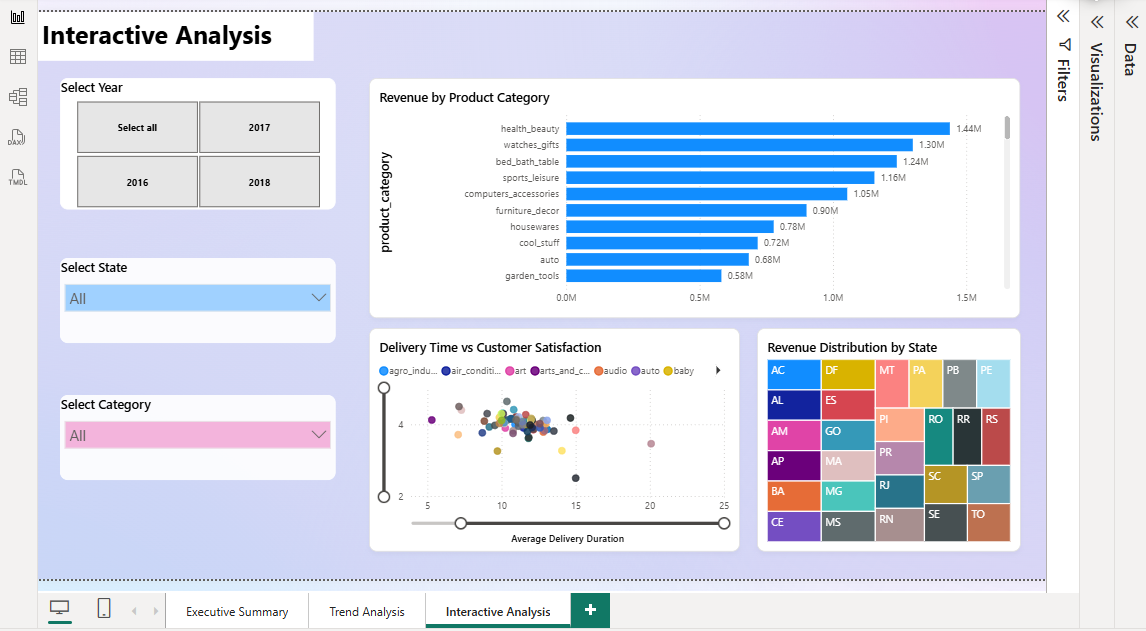

What the dashboard file says about the page in this screenshot:
{"tool":"powerbi","page":{"name":"Interactive Analysis","canvas":[1280,720],"ordinal":2},"visuals":[{"type":"textbox","box":[0,0,349.9,61.7],"z":0},{"type":"slicer","title":"Select Year","fields":{"Values":["DM_Sales_Revenue.year"]},"box":[27.4,83.7,349.9,167.4],"z":1000},{"type":"slicer","title":"Select State","fields":{"Values":["DM_Customer_Experience.customer_state"]},"box":[27.4,312.9,349.9,108.4],"z":2000},{"type":"slicer","title":"Select Category","fields":{"Values":["DM_Sales_Revenue.product_category"]},"box":[27.4,485.8,349.9,108.4],"z":3000},{"type":"clusteredBarChart","title":"Revenue by Product Category","fields":{"Y":["DM_Sales_Revenue.Total Revenue"],"Category":["DM_Sales_Revenue.product_category"]},"box":[419.9,83.7,827.4,304.6],"z":4000},{"type":"scatterChart","title":"Delivery Time vs Customer Satisfaction","fields":{"X":["DM_Customer_Experience.Average Delivery Duration"],"Y":["DM_Customer_Experience.Average Review Score"],"Series":["DM_Customer_Experience.product_category"]},"box":[419.9,400.7,470.7,284],"z":5000},{"type":"treemap","title":"Revenue Distribution by State","fields":{"Group":["DM_Customer_Experience.customer_state"],"Values":["DM_Sales_Revenue.Total Revenue"]},"box":[912.5,400.7,334.8,284],"z":6000}]}

Visuals, with their boxes on the page's 1280x720 design canvas (x1, y1, x2, y2). These are canvas units, not pixel positions in the 1146x631 screenshot, which may show the page scaled, cropped or inside an application window:
textbox: x1=0 y1=0 x2=350 y2=62
"Select Year" slicer: x1=27 y1=84 x2=377 y2=251
"Select State" slicer: x1=27 y1=313 x2=377 y2=421
"Select Category" slicer: x1=27 y1=486 x2=377 y2=594
"Revenue by Product Category" clusteredBarChart: x1=420 y1=84 x2=1247 y2=388
"Delivery Time vs Customer Satisfaction" scatterChart: x1=420 y1=401 x2=891 y2=685
"Revenue Distribution by State" treemap: x1=912 y1=401 x2=1247 y2=685
